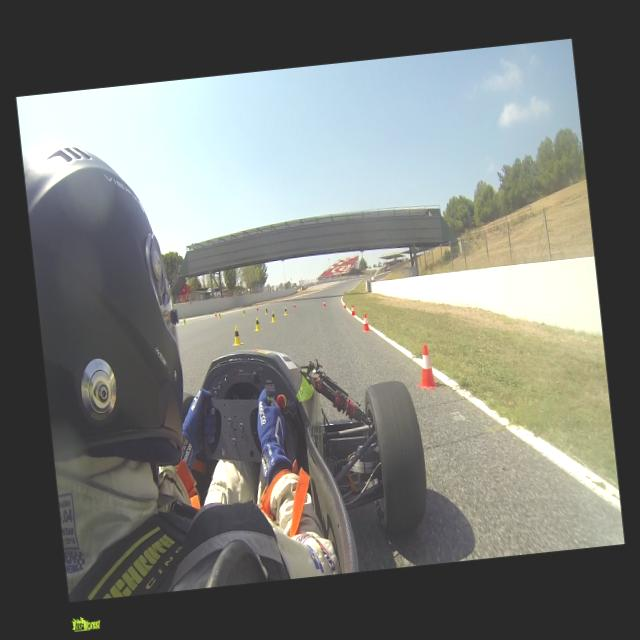orange_cone: (413, 342, 438, 392), (361, 313, 370, 333), (350, 304, 355, 315), (342, 301, 346, 309), (292, 300, 295, 308), (322, 300, 325, 306), (214, 310, 216, 317), (256, 304, 258, 310)
yellow_cone: (232, 326, 240, 345), (253, 316, 260, 330), (270, 311, 276, 322), (283, 306, 287, 314), (264, 306, 267, 314), (242, 309, 245, 316), (218, 312, 221, 318), (183, 316, 185, 324)
